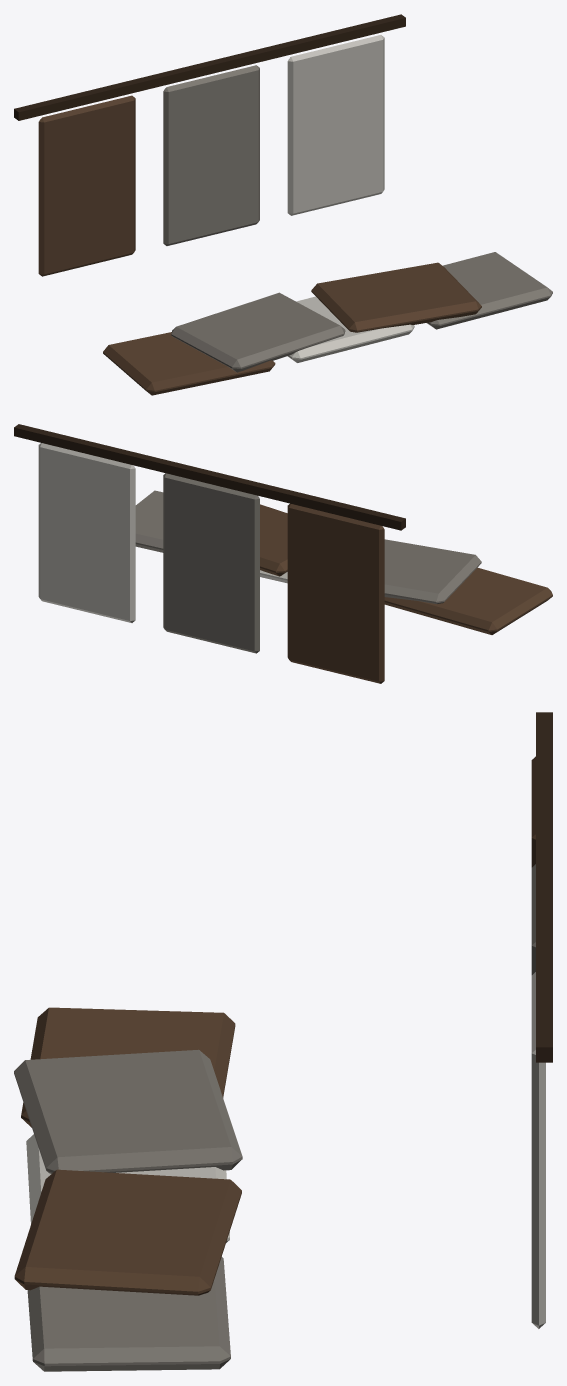
File: village_goods_furs.glb
The picture shows the model from 3 angles, top to bottom: view 1: azimuth 30°, elevation 25°; view 2: azimuth 150°, elevation 25°; view 3: azimuth 270°, elevation 25°; orthographic projection. The views are drawn at different scales.
Visible parts, largest first — view 1: village_goods_furs; view 2: village_goods_furs; view 3: village_goods_furs.
Part boxes in pixels (box(x1,y1,x2,y2)): village_goods_furs: box(14, 14, 552, 395); village_goods_furs: box(14, 424, 552, 683); village_goods_furs: box(14, 712, 552, 1371).
Size of the model in its own units: 2.93 by 1.25 by 1.9.
